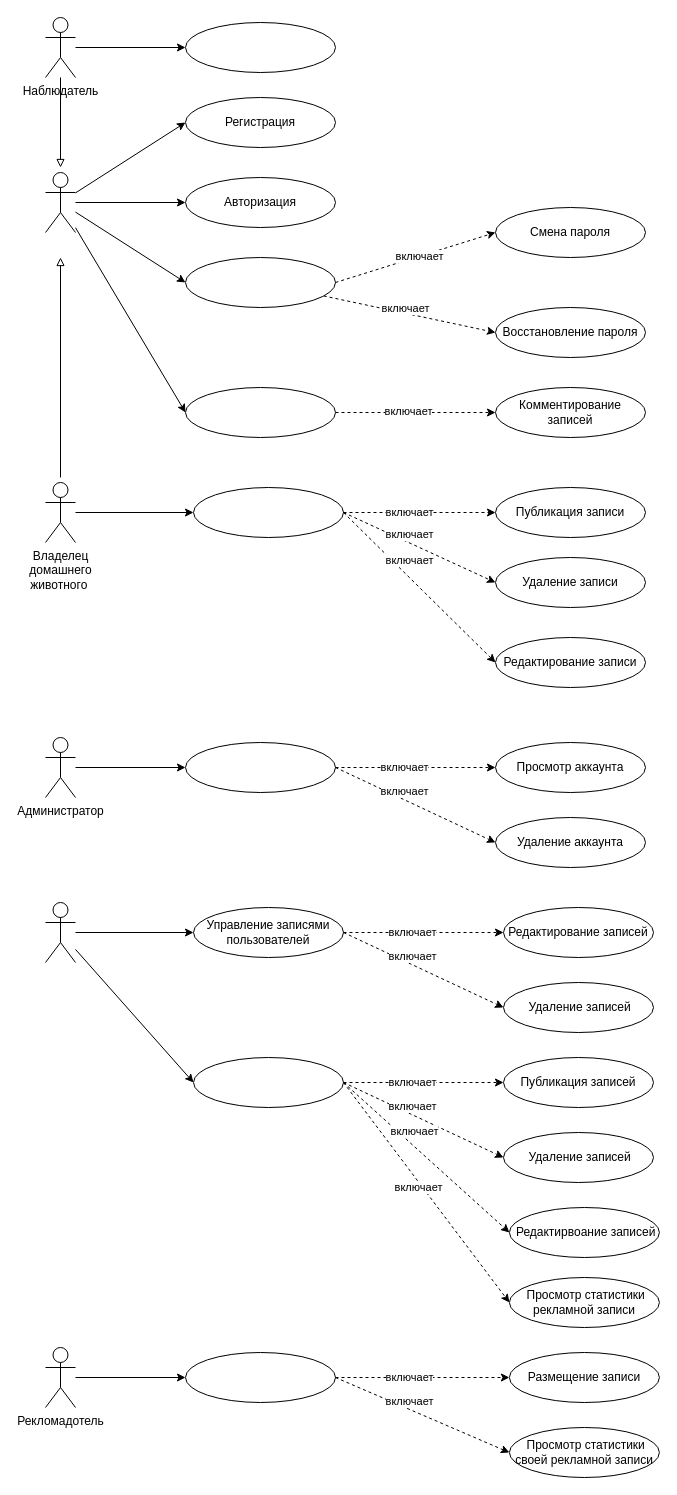
Some shapes in this 677 by 1495 pixel diagram are drawn without their labels. Here are the shapes that lost their labels. From the top down, the centre of each, then its label:
At (260,47): "Публикация найденых животных".
At (60,202): "Пользователь".
At (260,282): "Управление аккаунтом".
At (260,412): "Записи с пропавшими домашними животными".
At (268,512): "Управление своими записями о правшем животном".
At (260,767): "Управление аккаунтами пользователей".
At (60,932): "Модератор".
At (268,1082): "Управление рекламными записями".
At (260,1377): "Управление своими рекламными записями".
